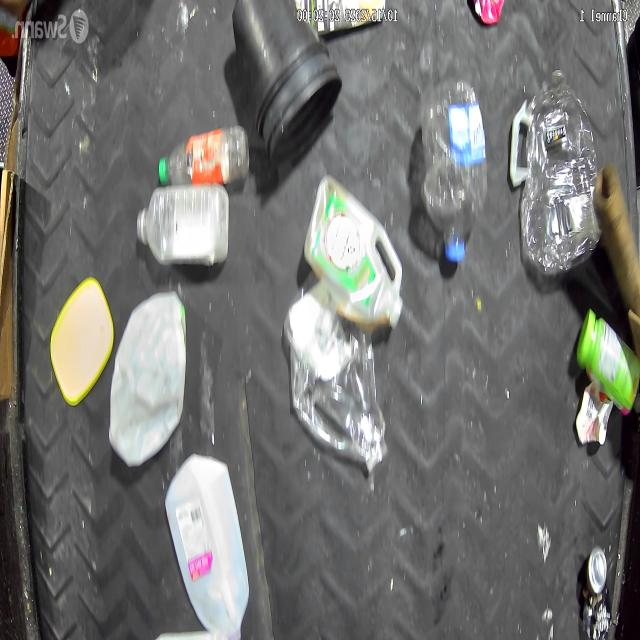can: (582, 533, 622, 640), (463, 0, 508, 42)
milk_jug: (166, 446, 248, 640), (106, 286, 186, 469)
non_white_jug: (304, 174, 402, 338)
plastic_bottle: (512, 63, 602, 277), (413, 78, 494, 268), (159, 120, 247, 212)
